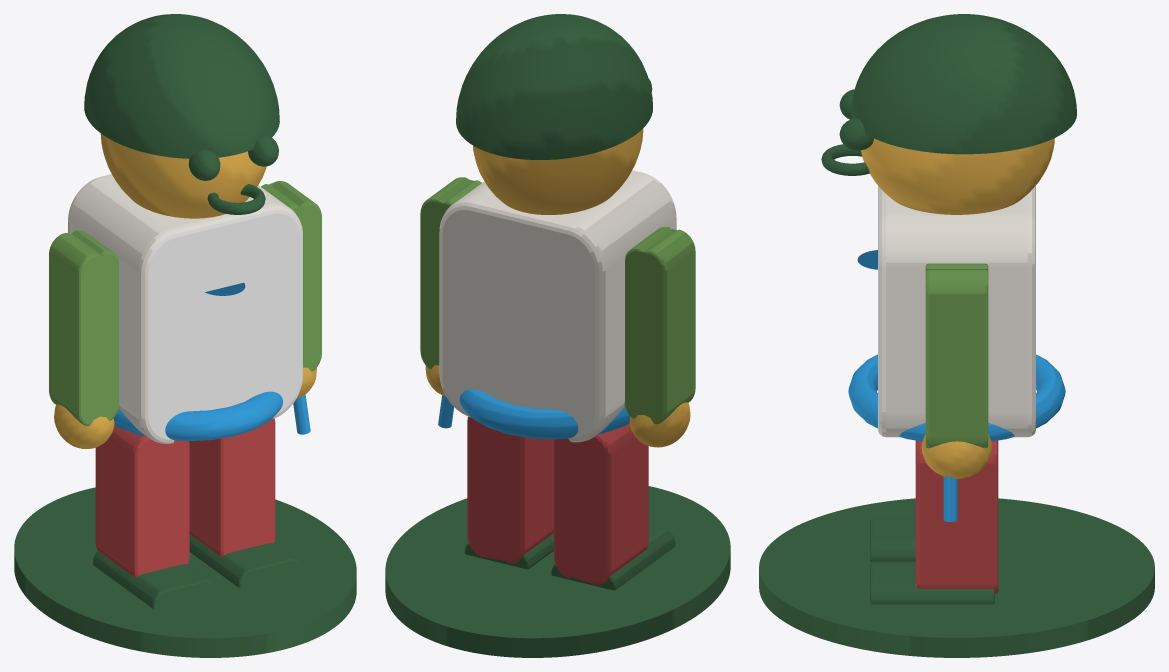
The model's file is 0396_欧洲文明图鉴_法国贵族.glb.
3 renders of one model, left to right at view 1: azimuth 30°, elevation 25°; view 2: azimuth 150°, elevation 25°; view 3: azimuth 270°, elevation 25°, orthographic. The views are drawn at different scales.
Visible parts, largest first — view 1: card_0396; view 2: card_0396; view 3: card_0396.
Part boxes in pixels (bbox=[...]): card_0396: bbox=[14, 14, 356, 657]; card_0396: bbox=[385, 14, 730, 657]; card_0396: bbox=[759, 14, 1154, 657].
Bounding box in the file's own units: 0.5358 × 1 × 0.635.
